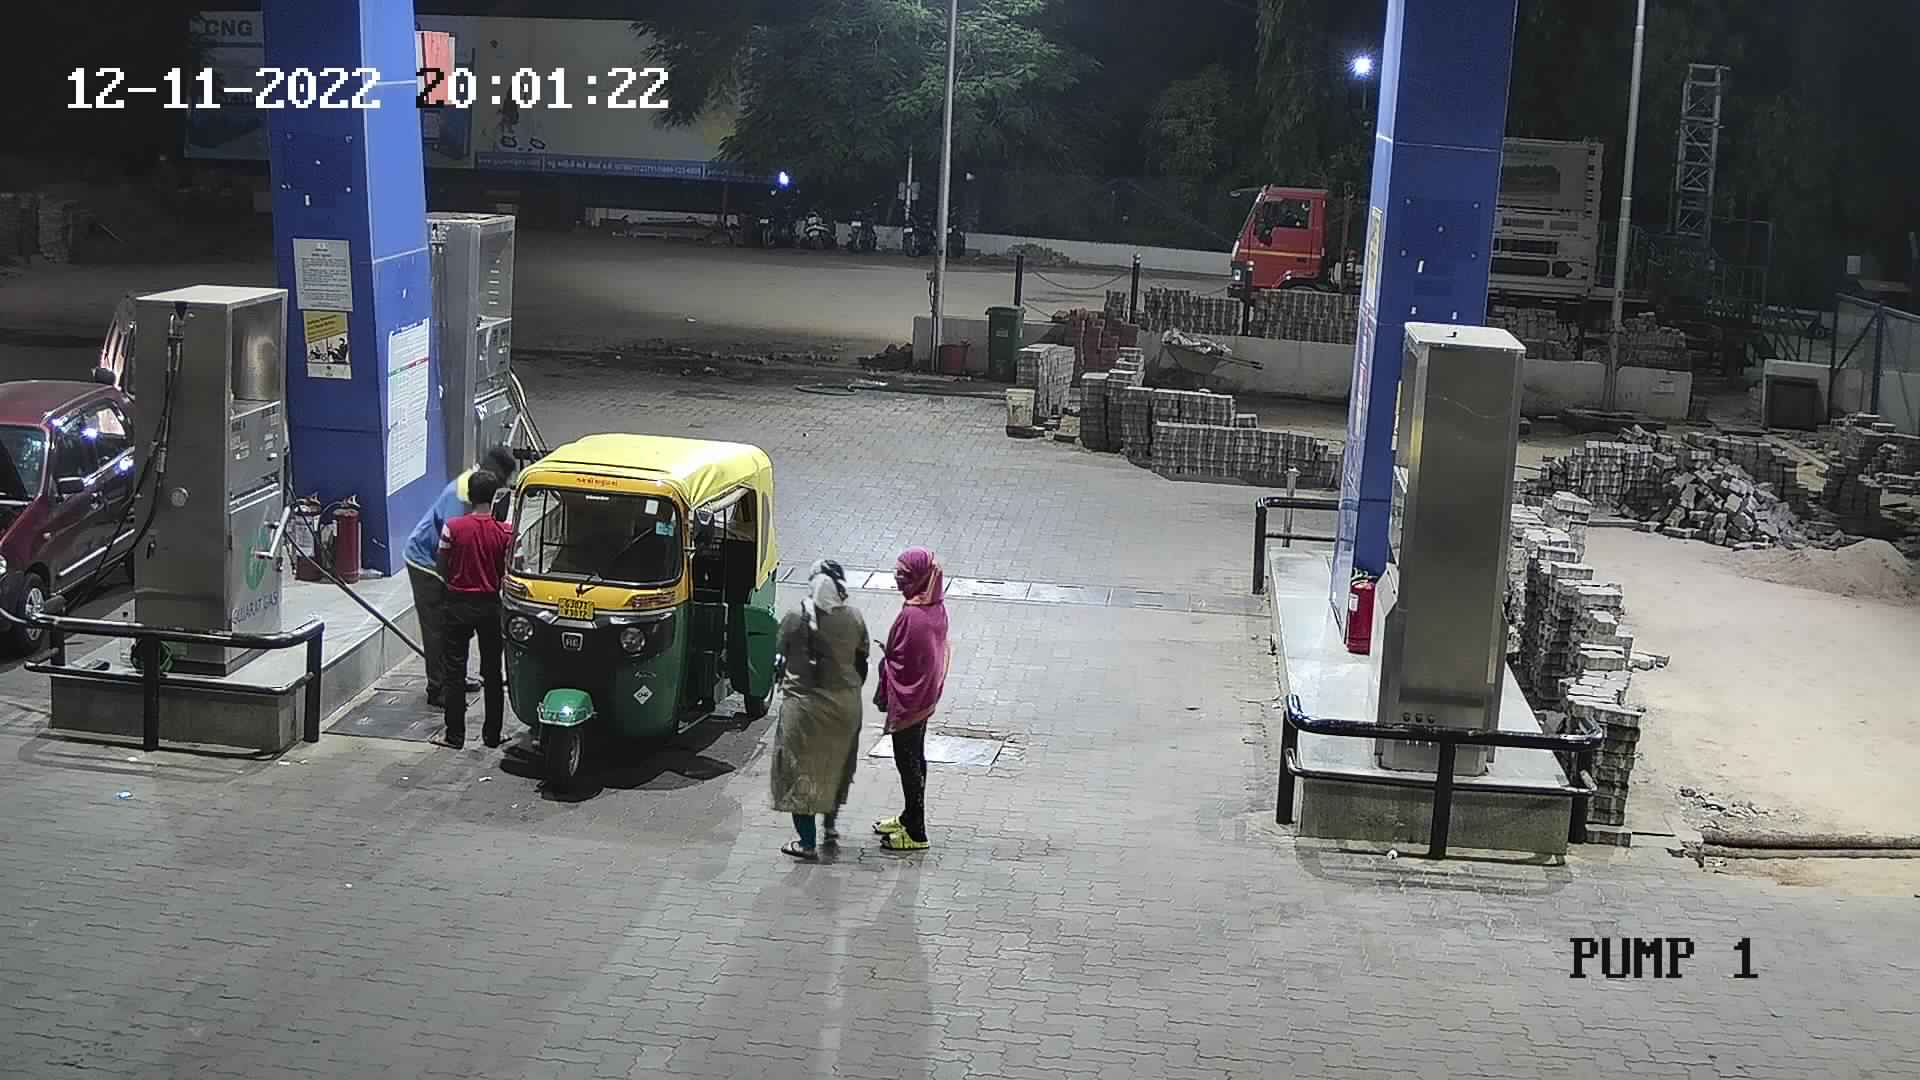Auto: (480, 411, 777, 787)
Bike: (750, 181, 802, 248), (798, 189, 851, 252), (845, 186, 889, 257), (895, 191, 936, 258)
Car: (1, 363, 140, 661), (84, 280, 177, 406)
HMV: (1217, 171, 1375, 324)
Others: (396, 438, 518, 713)
